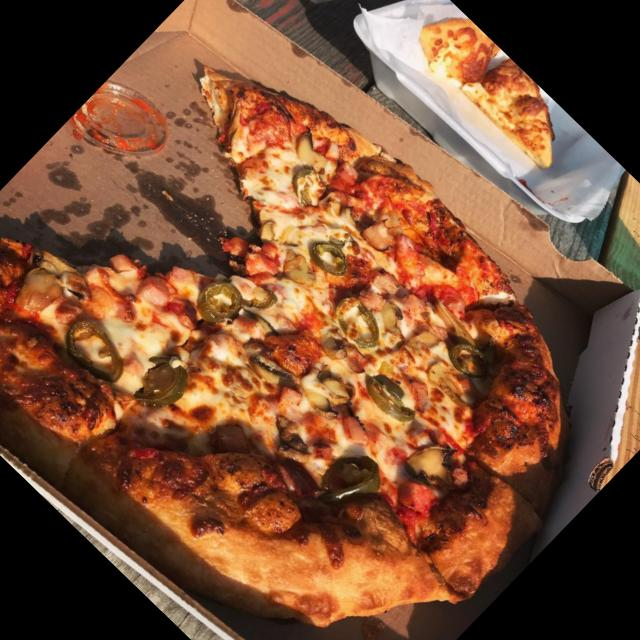mushrooms: (393, 424, 476, 508), (285, 358, 360, 432), (237, 337, 298, 398), (286, 126, 338, 178), (276, 242, 324, 290), (371, 294, 416, 340), (254, 214, 290, 248)
peppers: (52, 306, 142, 394), (308, 438, 390, 520), (121, 342, 197, 420), (324, 286, 396, 359), (437, 322, 508, 392), (356, 360, 424, 428), (188, 277, 244, 332), (301, 232, 355, 286), (284, 160, 337, 213)
pizza: (0, 65, 563, 629)
